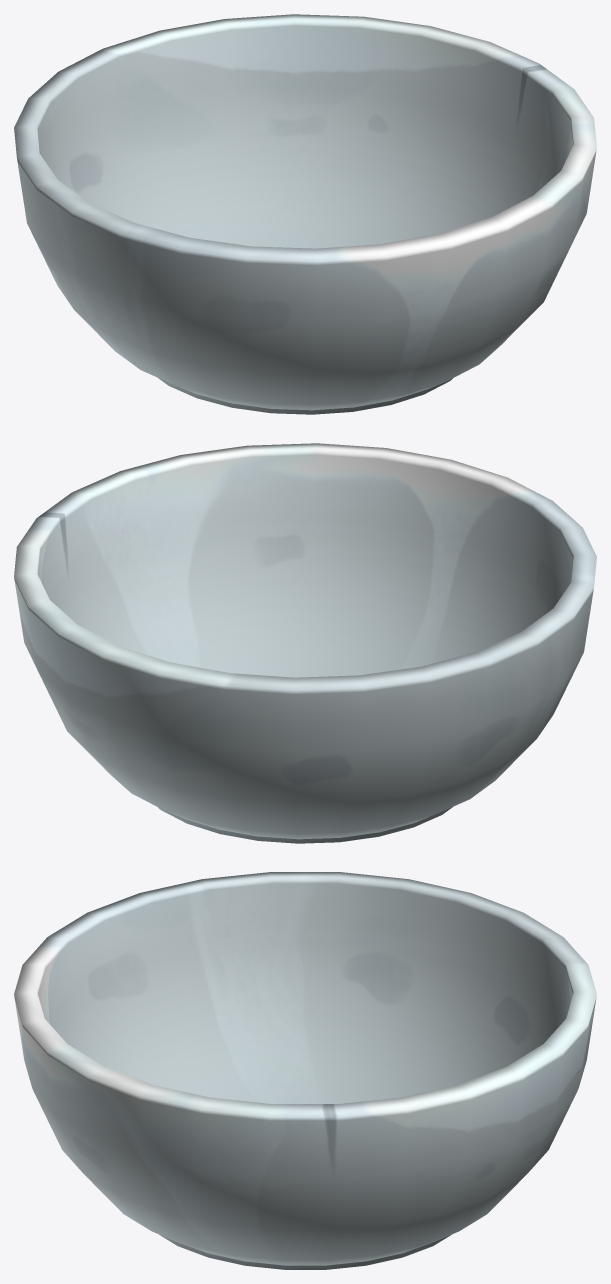
The model's file is BowlSmall.fbx.
3 views of the same model, one above another, from view 1: azimuth 30°, elevation 25°; view 2: azimuth 150°, elevation 25°; view 3: azimuth 270°, elevation 25° (orthographic).
Parts seen in each view (by area): view 1: BowlSmall; view 2: BowlSmall; view 3: BowlSmall.
Part boxes in pixels (x1,y1,x2,y2): BowlSmall: (14,14,596,414); BowlSmall: (14,443,596,843); BowlSmall: (14,872,596,1269).
Bounding box in the file's own units: 27.8 × 11.08 × 28.
